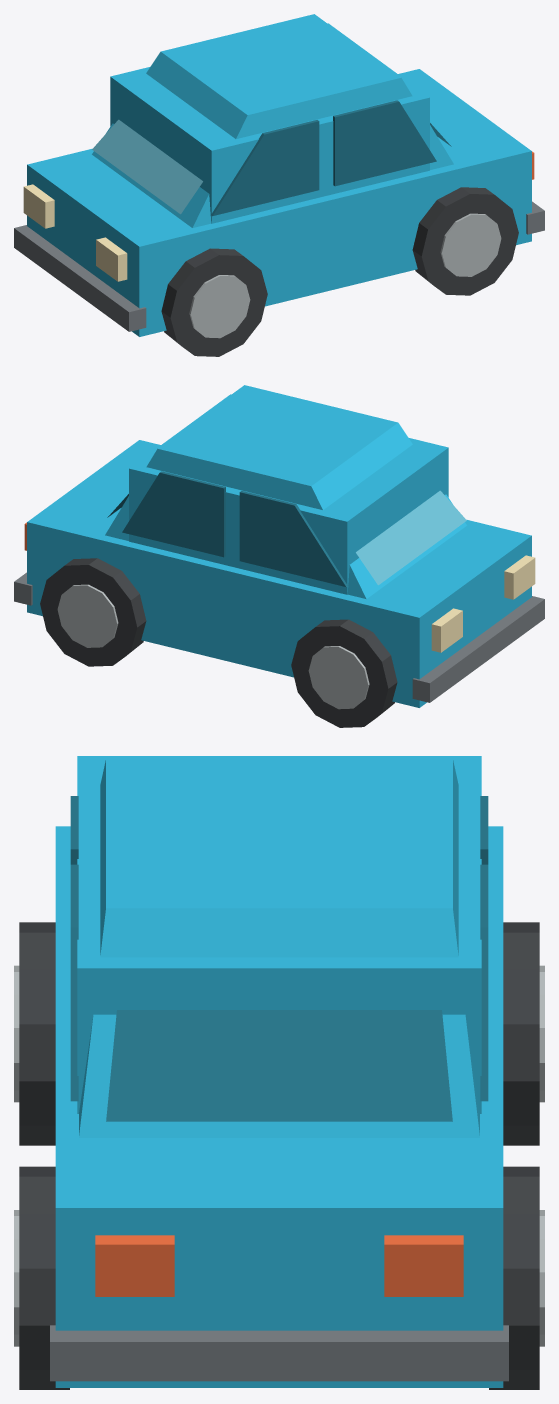
File: Car_Blue.glb
3 views of the same model, one above another, from view 1: azimuth 30°, elevation 25°; view 2: azimuth 150°, elevation 25°; view 3: azimuth 270°, elevation 25° (orthographic). The views are drawn at different scales.
Parts seen in each view (by area): view 1: Car_Blue; view 2: Car_Blue; view 3: Car_Blue.
Boxes of the visible parts, x1=… form: Car_Blue: x1=14, y1=14, x2=544, y2=356; Car_Blue: x1=14, y1=385, x2=544, y2=727; Car_Blue: x1=14, y1=756, x2=544, y2=1389.
Bounding box in the file's own units: 2.66 × 1.3 × 1.47.
